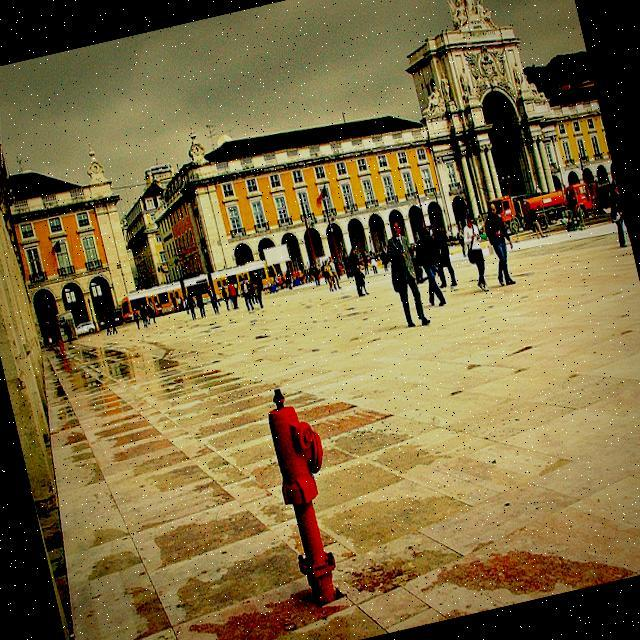fire_hydrant: (253, 378, 357, 610), (56, 338, 66, 357)
